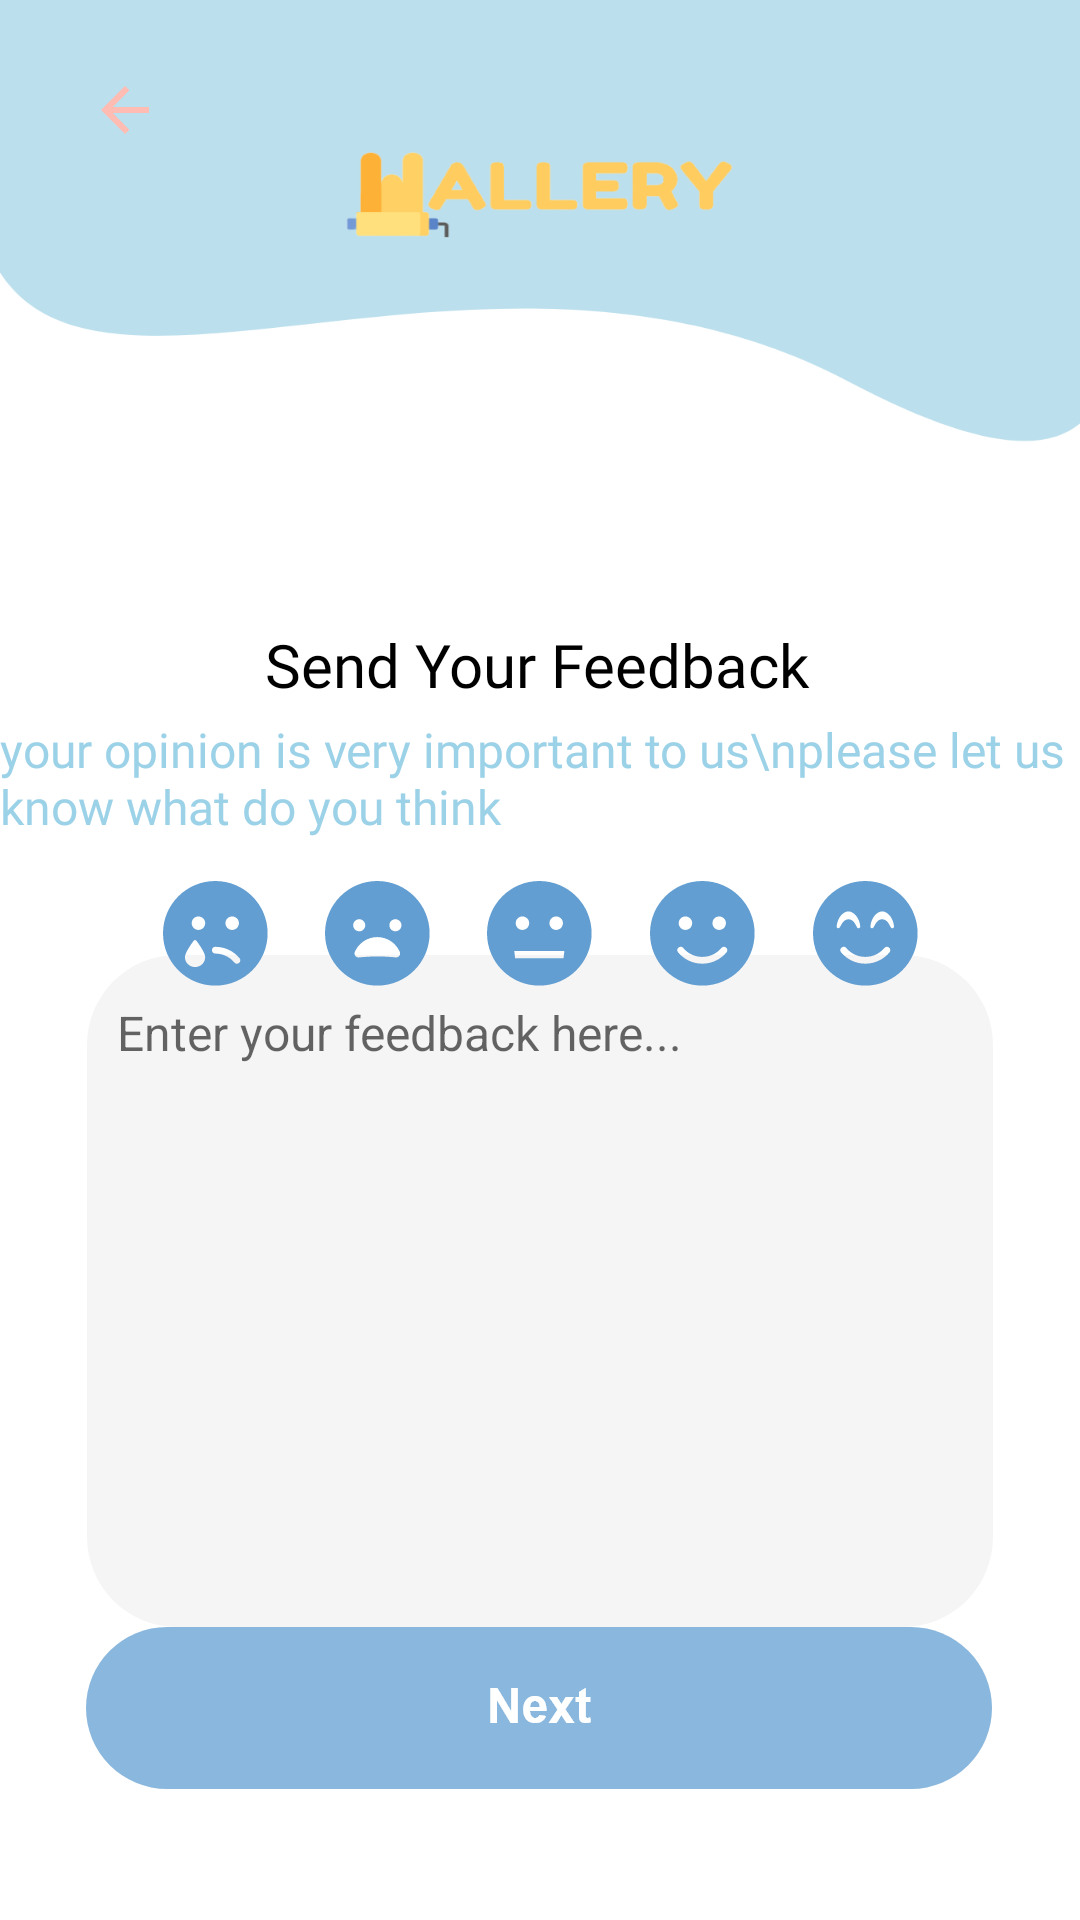

Icons on this 1080 × 1920 Android screen, each with its box as (x1, y1, x2, y2):
back: (101, 86, 149, 134)
happy: (650, 881, 755, 986)
notbad: (487, 881, 592, 986)
veryhappy: (813, 881, 918, 986)
